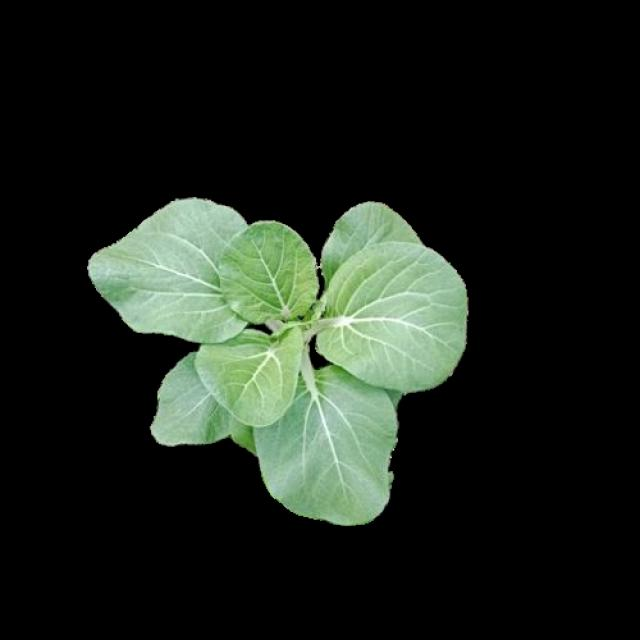healthy: (87, 196, 467, 522)
not-mature: (90, 197, 470, 525)
